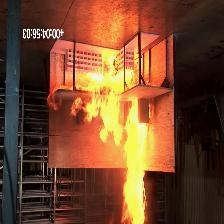fire: (46, 43, 178, 224)
